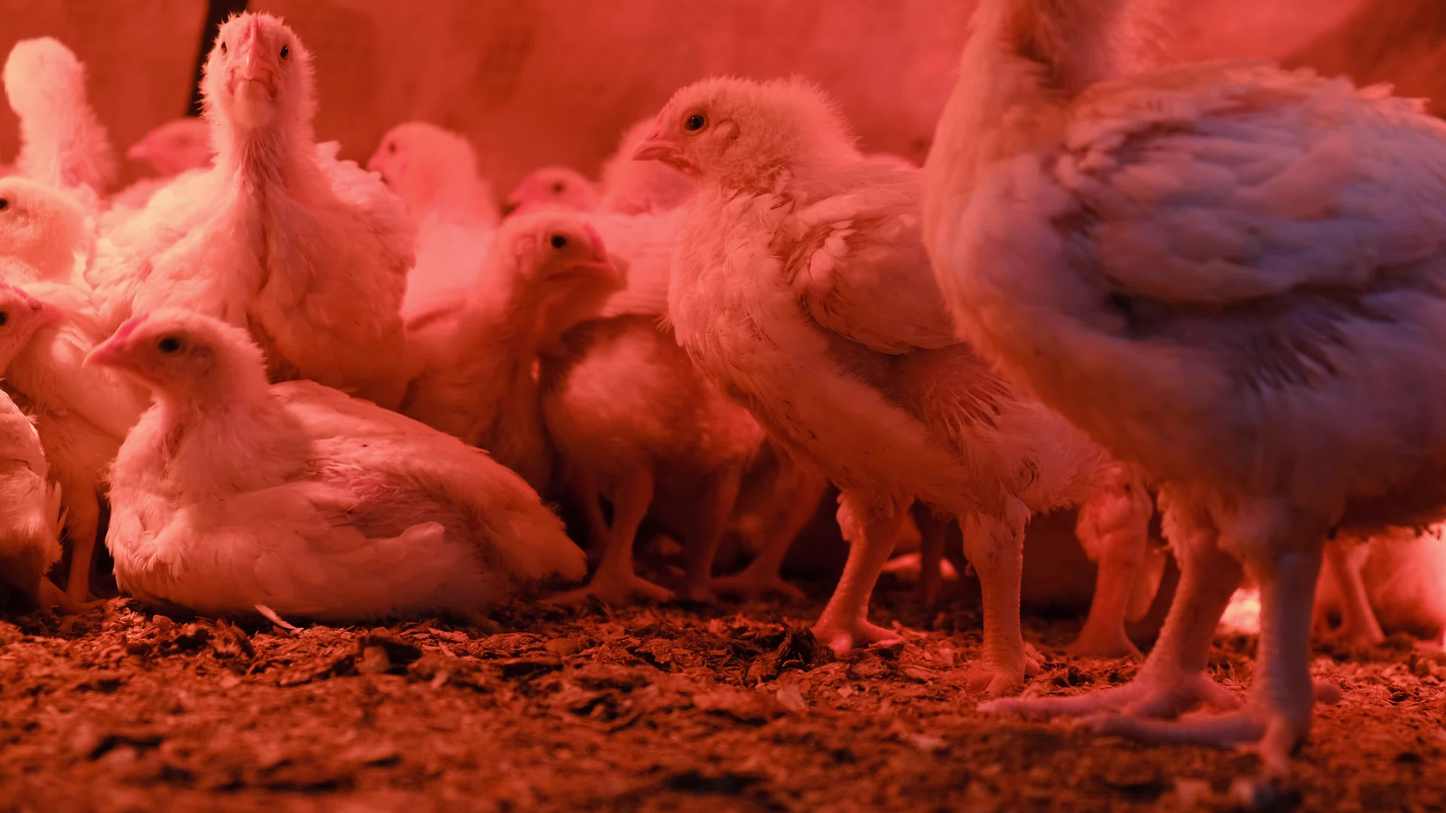AbNormal: (81, 307, 585, 610), (0, 277, 64, 629), (1311, 517, 1446, 655)
Normal: (917, 0, 1446, 780), (631, 74, 1102, 687), (85, 8, 422, 408), (539, 224, 786, 599), (2, 168, 164, 629), (406, 202, 616, 488), (366, 119, 506, 319), (0, 29, 124, 194), (128, 117, 225, 185), (512, 158, 612, 208)
